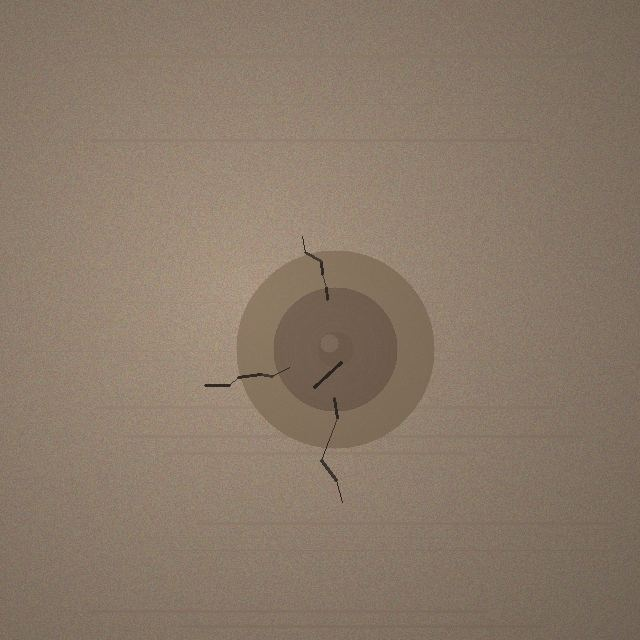crack: (236, 250, 434, 448)
